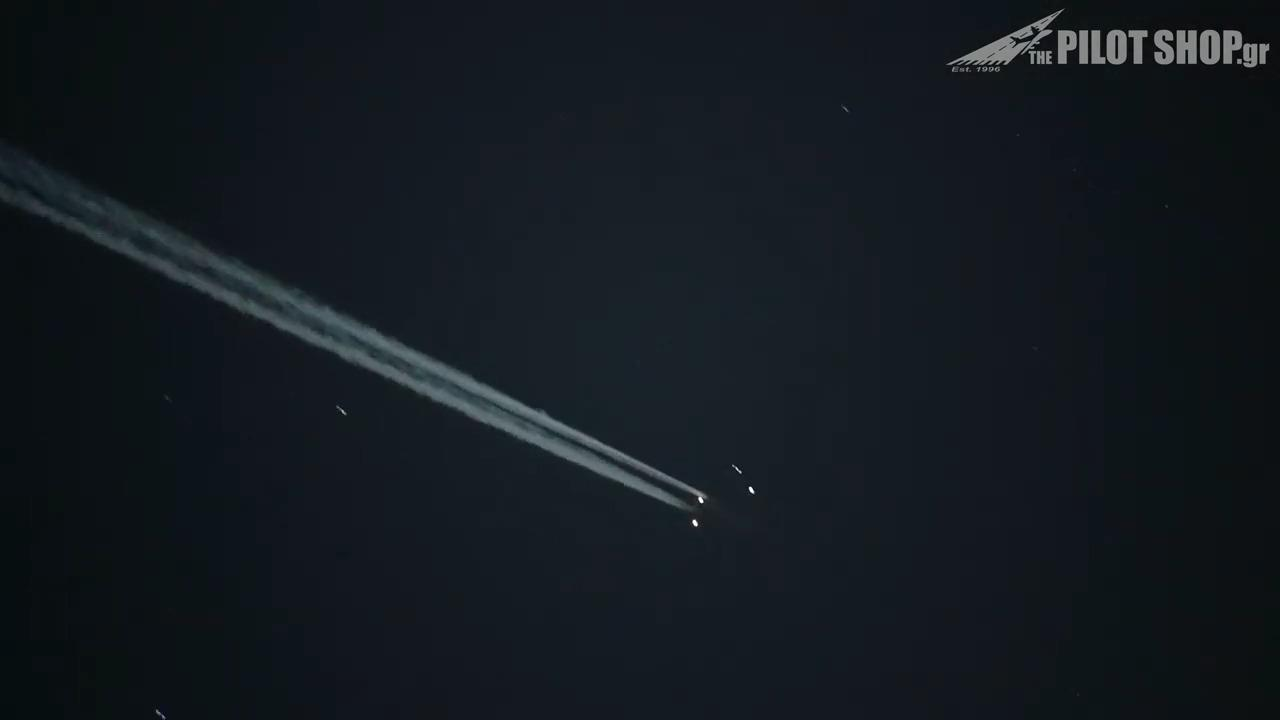Plane: (595, 448, 796, 545)
